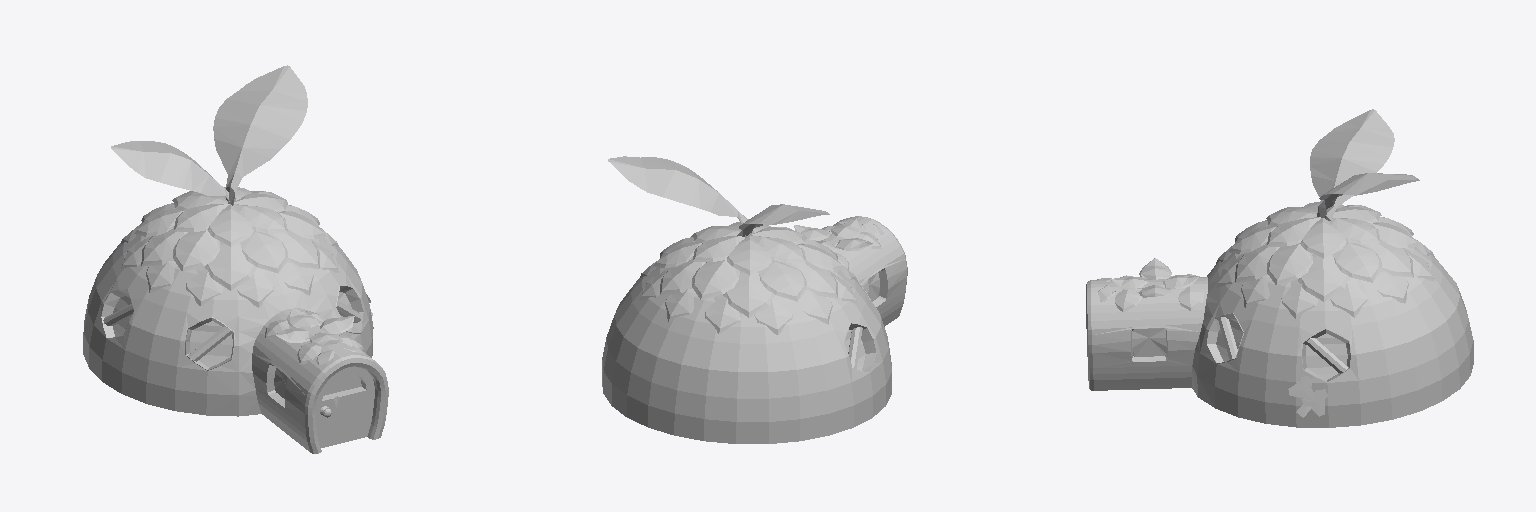
File: House (Yellow).obj
3 renders of one model, left to right at view 1: azimuth 30°, elevation 25°; view 2: azimuth 150°, elevation 25°; view 3: azimuth 270°, elevation 25°, orthographic.
Visible parts, largest first — view 1: minka_yellow04, minka_yellow02_1, minka_yellow00, minka_yellow03, alpha_leaf18_2, alpha_leaf08_2, alpha_leaf06_2, alpha_leaf05_3, alpha_leaf12_2, alpha_leaf16_2, alpha_leaf04_3, alpha_leaf00_5 (+8 smaller); view 2: minka_yellow04, minka_yellow02_1, alpha_leaf15_2, alpha_leaf10_2, alpha_leaf09_2, minka_yellow03, alpha_leaf03_3, alpha_leaf14_2, alpha_leaf16_2, alpha_leaf04_3, alpha_leaf02_3, alpha_leaf25_2 (+5 smaller); view 3: minka_yellow04, minka_yellow03, minka_yellow02_1, alpha_leaf13_2, alpha_leaf11_2, alpha_leaf07_2, alpha_leaf01_5, alpha_leaf12_2, alpha_leaf14_2, alpha_leaf00_5, alpha_leaf02_3, alpha_leaf22_2 (+6 smaller).
Boxes of the visible parts, x1,y1,x2,y2 form: minka_yellow04: [83, 223, 388, 453]; minka_yellow02_1: [213, 65, 307, 205]; minka_yellow00: [316, 367, 374, 447]; minka_yellow03: [111, 141, 236, 201]; alpha_leaf18_2: [205, 242, 256, 290]; alpha_leaf08_2: [173, 229, 220, 271]; alpha_leaf06_2: [240, 230, 287, 273]; alpha_leaf05_3: [208, 204, 253, 246]; alpha_leaf12_2: [271, 229, 319, 268]; alpha_leaf16_2: [141, 228, 187, 266]; alpha_leaf04_3: [174, 204, 229, 232]; alpha_leaf00_5: [233, 204, 287, 232]; minka_yellow04: [602, 216, 907, 443]; minka_yellow02_1: [608, 156, 753, 238]; alpha_leaf15_2: [723, 270, 774, 317]; alpha_leaf10_2: [692, 259, 739, 299]; alpha_leaf09_2: [758, 260, 806, 301]; minka_yellow03: [737, 204, 829, 236]; alpha_leaf03_3: [727, 236, 772, 274]; alpha_leaf14_2: [660, 259, 705, 295]; alpha_leaf16_2: [790, 260, 837, 298]; alpha_leaf04_3: [751, 235, 806, 262]; alpha_leaf02_3: [693, 236, 744, 261]; alpha_leaf25_2: [705, 295, 740, 333]; minka_yellow04: [1086, 247, 1473, 427]; minka_yellow03: [1310, 109, 1394, 220]; minka_yellow02_1: [1317, 173, 1419, 217]; alpha_leaf13_2: [1298, 254, 1349, 301]; alpha_leaf11_2: [1332, 242, 1381, 282]; alpha_leaf07_2: [1267, 243, 1312, 285]; alpha_leaf01_5: [1300, 218, 1346, 258]; alpha_leaf12_2: [1235, 243, 1279, 282]; alpha_leaf14_2: [1364, 240, 1413, 277]; alpha_leaf00_5: [1267, 217, 1320, 246]; alpha_leaf02_3: [1327, 218, 1380, 243]; alpha_leaf22_2: [1330, 277, 1367, 317].
Bounding box in the file's own units: 3.68 × 3.26 × 4.79.